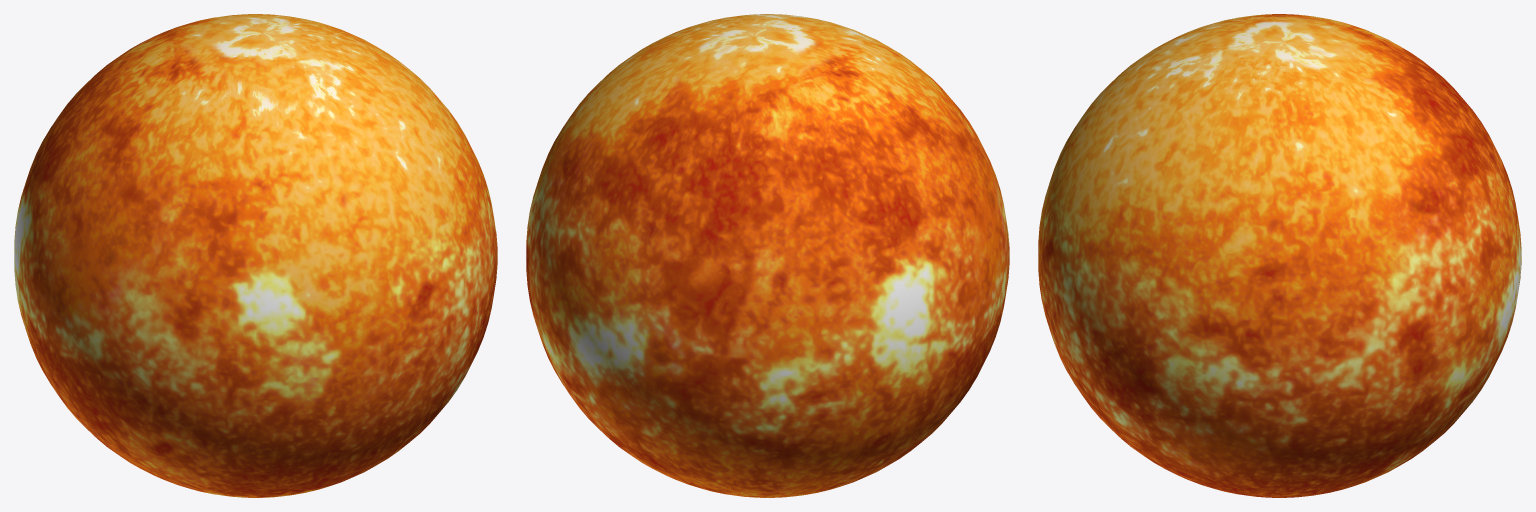
File: sonne.glb
3 views of the same model, side by side, from view 1: azimuth 30°, elevation 25°; view 2: azimuth 150°, elevation 25°; view 3: azimuth 270°, elevation 25° (orthographic).
Parts seen in each view (by area): view 1: Sphere; view 2: Sphere; view 3: Sphere.
Part boxes in pixels (left/top/right/bottom): Sphere: left=14, top=14, right=497, bottom=497; Sphere: left=526, top=14, right=1009, bottom=497; Sphere: left=1038, top=14, right=1521, bottom=497.
Size of the model in its own units: 2 by 2 by 2.
Materials: 1 (1 with a texture image).
